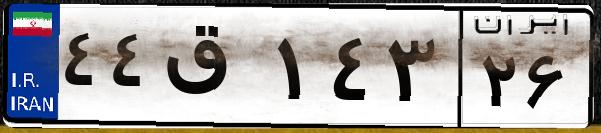1: (270, 28, 330, 110)
2: (475, 38, 525, 113)
3: (385, 28, 445, 110)
4: (330, 28, 385, 110), (57, 26, 110, 100), (110, 28, 158, 98)
6: (525, 38, 570, 115)
ق: (158, 20, 270, 120)
